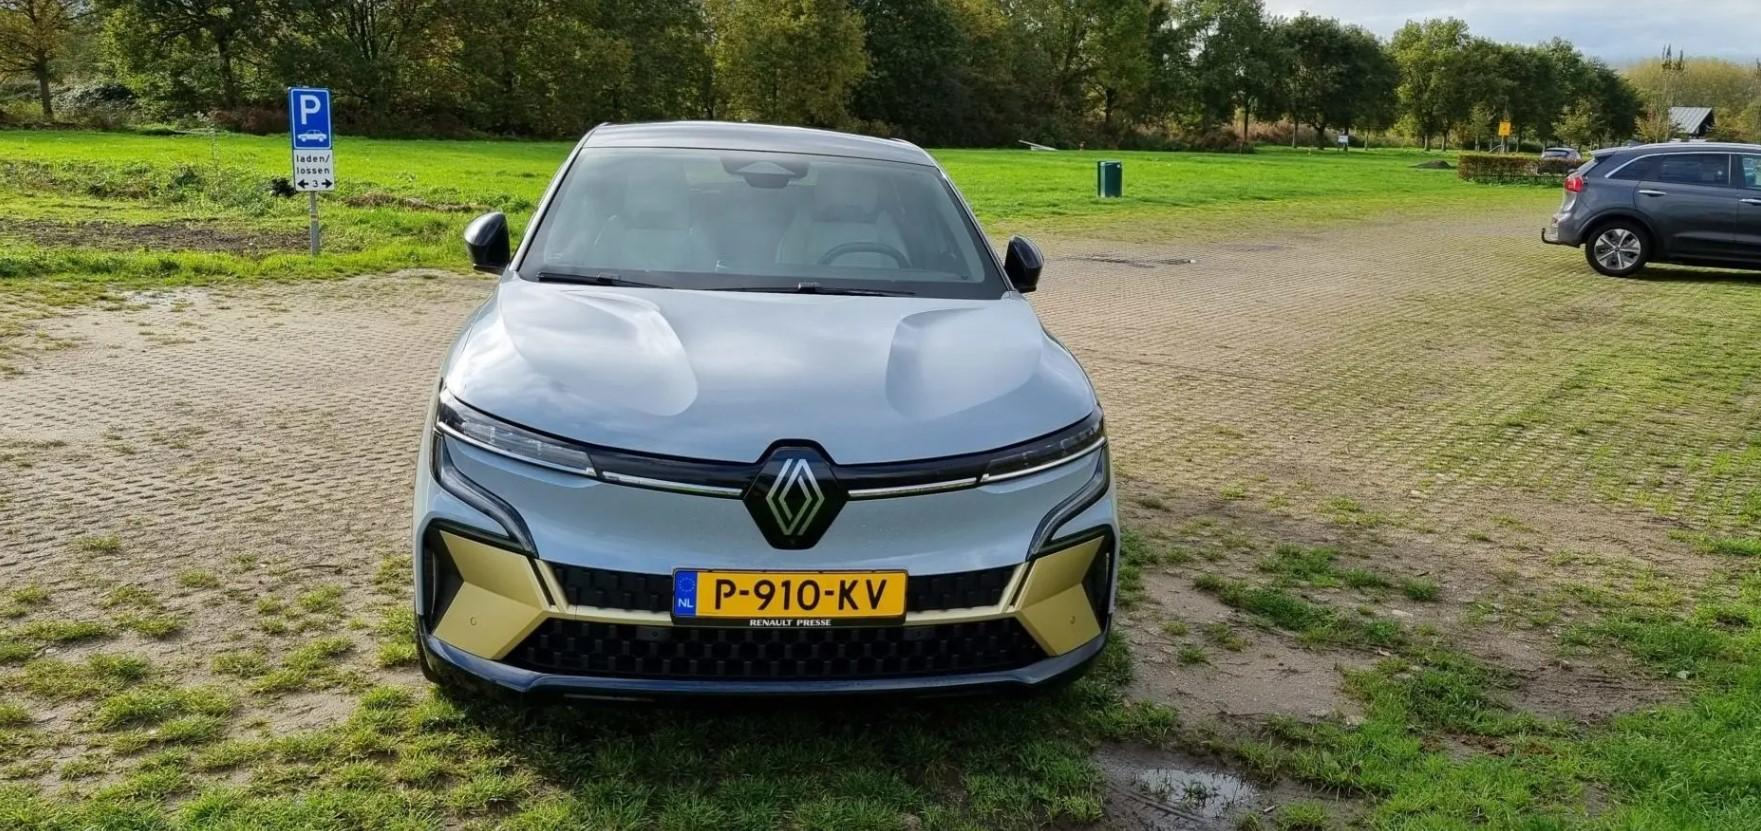Renault: (746, 444, 854, 558)
